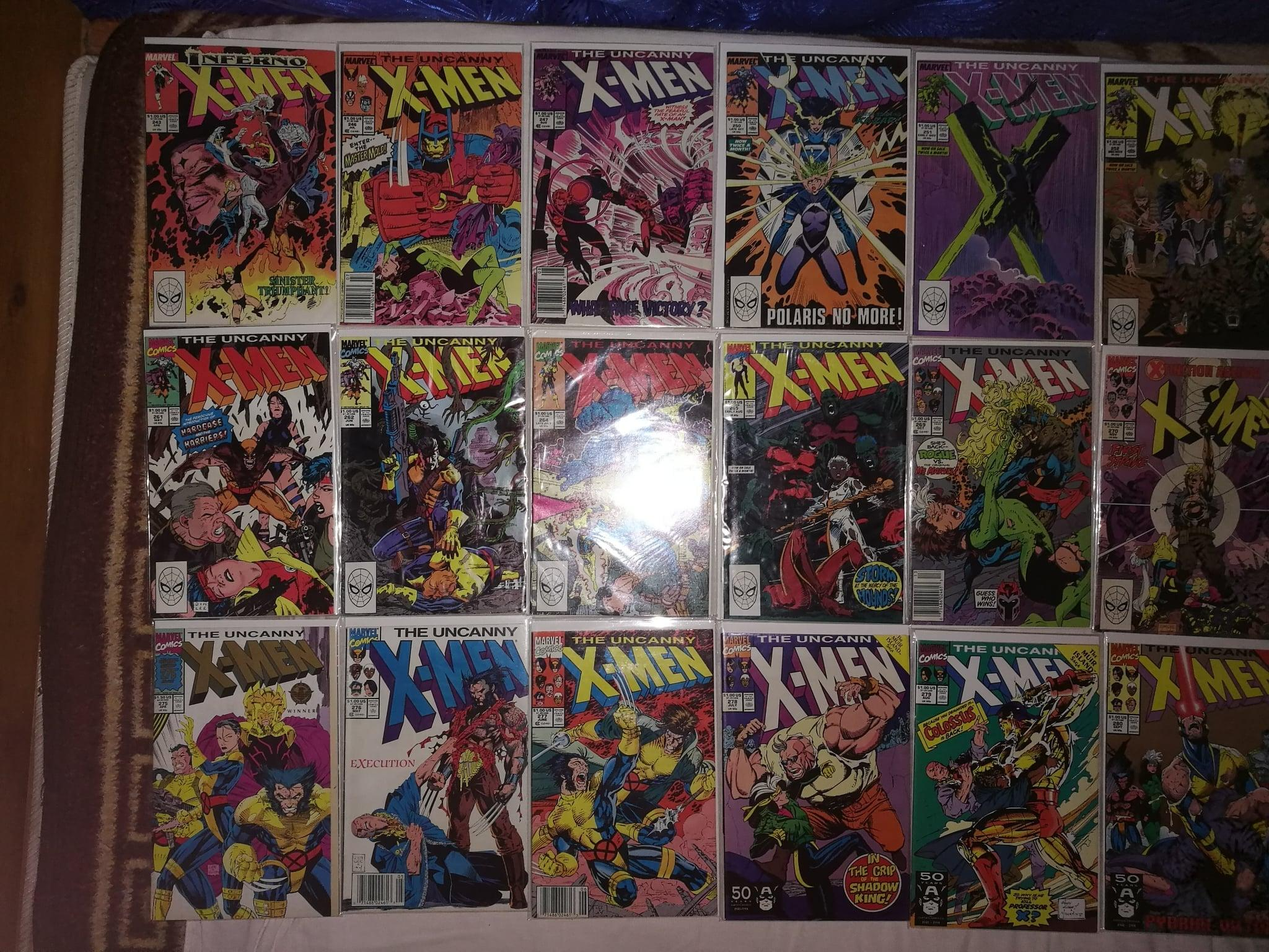comic: (144, 618, 338, 921), (911, 631, 1103, 932), (143, 37, 340, 328), (718, 626, 912, 921), (143, 328, 338, 618), (714, 337, 910, 624), (341, 618, 529, 911), (529, 627, 717, 918), (910, 54, 1100, 340), (907, 342, 1096, 628), (720, 47, 908, 332), (340, 332, 527, 614), (530, 46, 715, 326), (340, 46, 522, 326), (531, 337, 713, 616), (1102, 640, 1269, 939), (1099, 350, 1269, 637), (1101, 64, 1269, 347)
